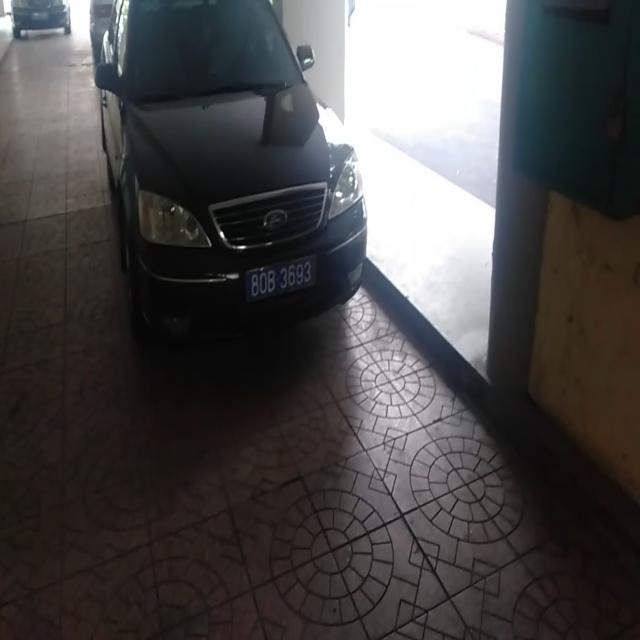bien_xanh: (247, 257, 317, 305)
